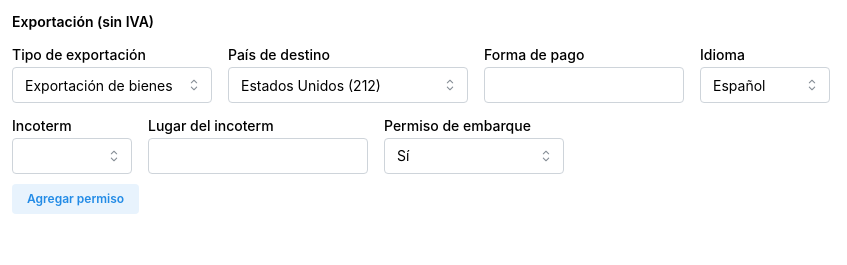
factura de exportación (web, E58) › servicios: sin incoterm ni permisos; bienes con permiso: grilla de permisos
The image size is (847, 265).
Expected: the field labelled "Incoterm" is shown, [12,138,132,174]
Click the button "Agregar permiso". click: coordinates (76, 199)
box: [12,184,139,214]
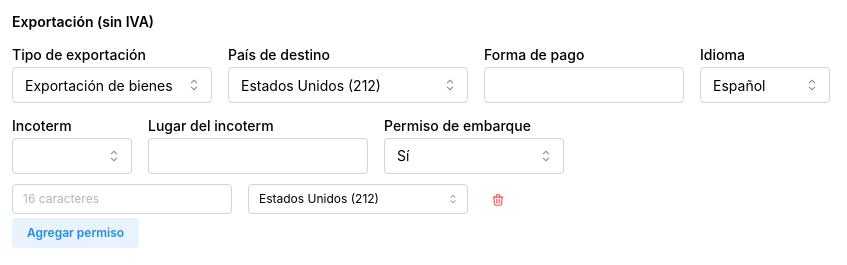
Expected: the field named "Permiso 1" is shown, [12,184,232,214]
